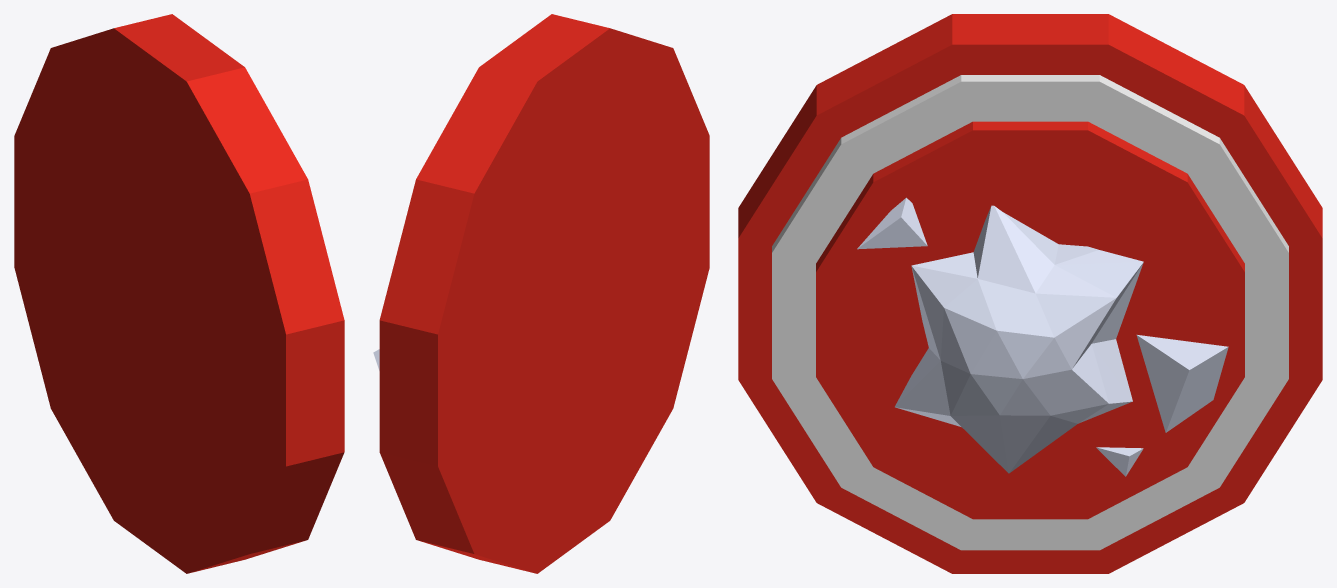
The model's file is targethit.fbx.
The picture shows the model from 3 angles, left to right: view 1: azimuth 30°, elevation 25°; view 2: azimuth 150°, elevation 25°; view 3: azimuth 270°, elevation 25°; orthographic projection. The views are drawn at different scales.
Visible parts, largest first — view 1: Cylinder; view 2: Cylinder; view 3: Cylinder.002, Cylinder, Cylinder.001, snowball, Cone.001, Cone, Cone.002.
Boxes of the visible parts, x1,y1,x2,y2 form: Cylinder: (14, 14, 344, 573); Cylinder: (379, 14, 709, 573); Cylinder.002: (816, 121, 1244, 519); Cylinder: (738, 14, 1322, 573); Cylinder.001: (772, 75, 1288, 550); snowball: (895, 205, 1143, 473); Cone.001: (1136, 335, 1228, 432); Cone: (857, 197, 927, 249); Cone.002: (1096, 447, 1143, 476).
Size of the model in its own units: 101 by 33.04 by 101.
